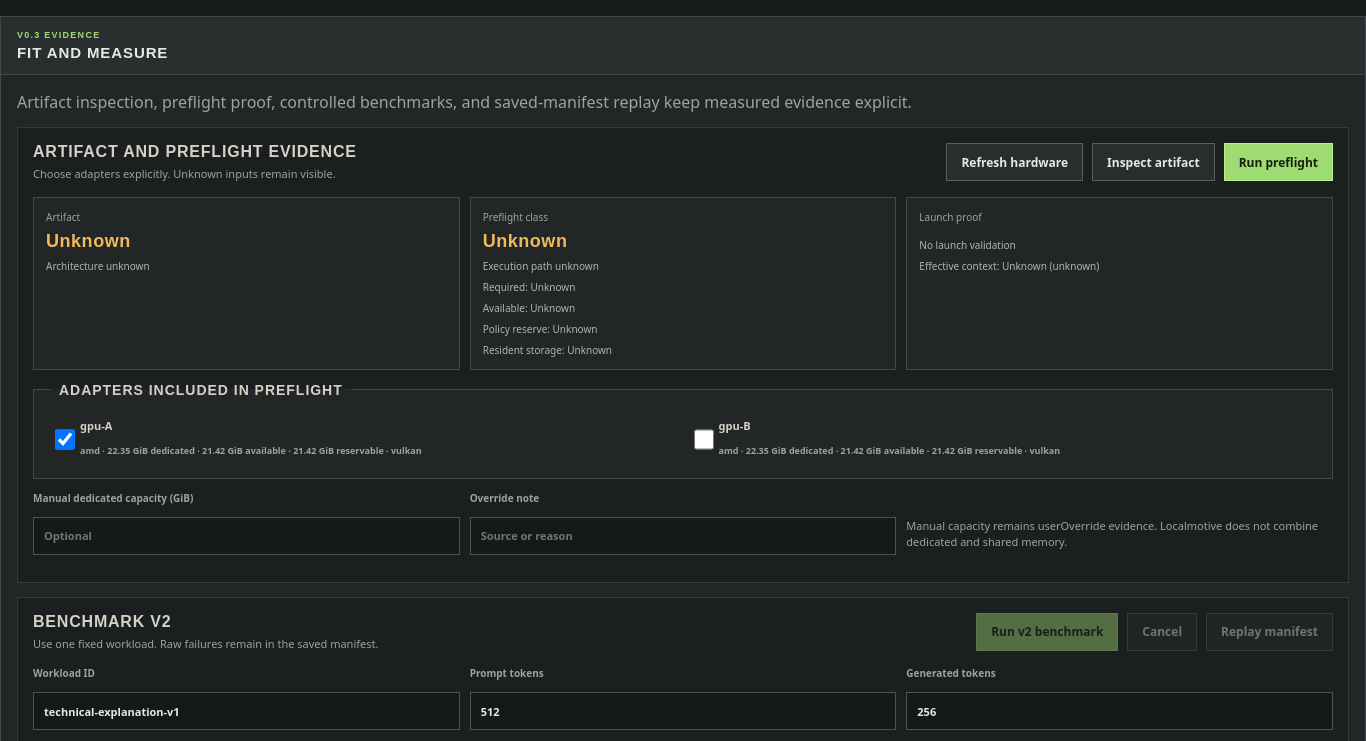
Scenario: preflight staleness and adapter selection (FE-06) › discards a preflight response whose inputs changed while it ran
Expected: the 1st checkbox is checked, left=55, top=420, right=75, bottom=458
Click the button "Run preflight".
click(1278, 162)  # box left=1224, top=143, right=1333, bottom=181
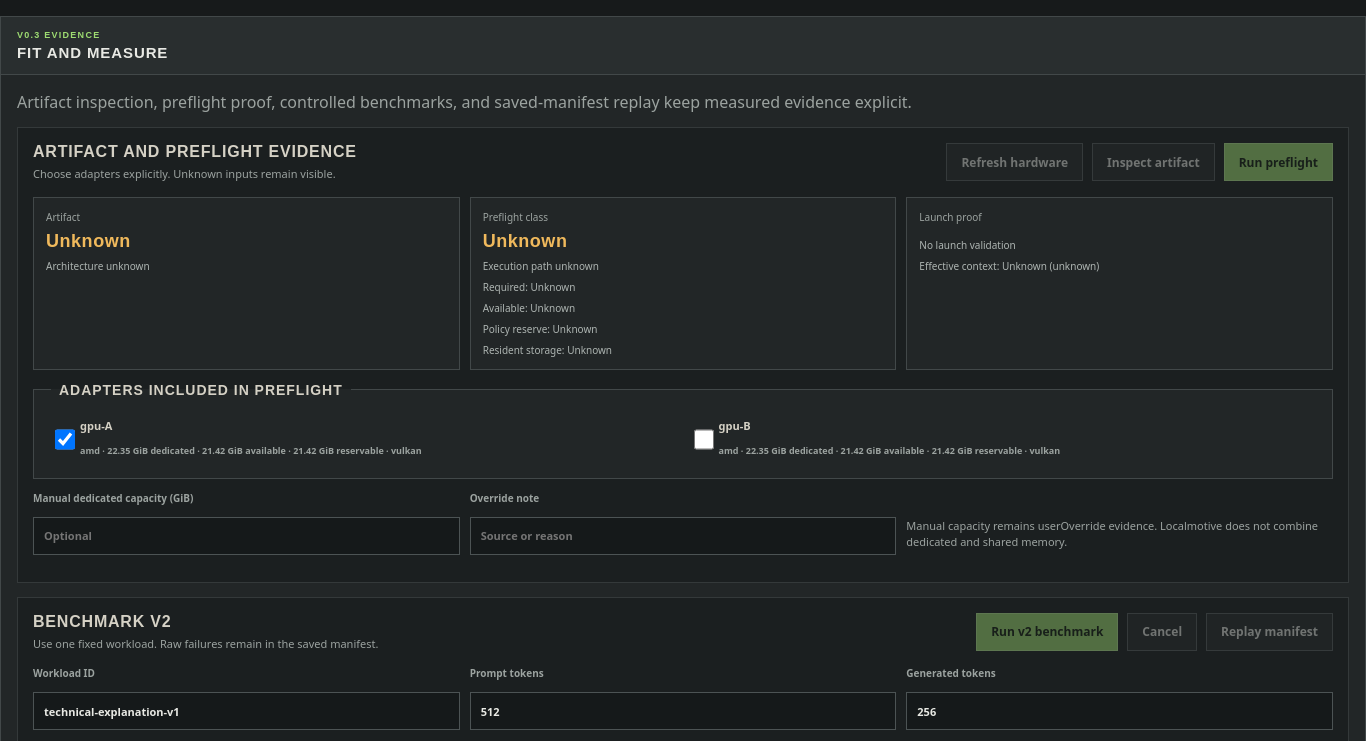
Click the 2nd checkbox.
click(704, 439)  # box left=694, top=420, right=714, bottom=458
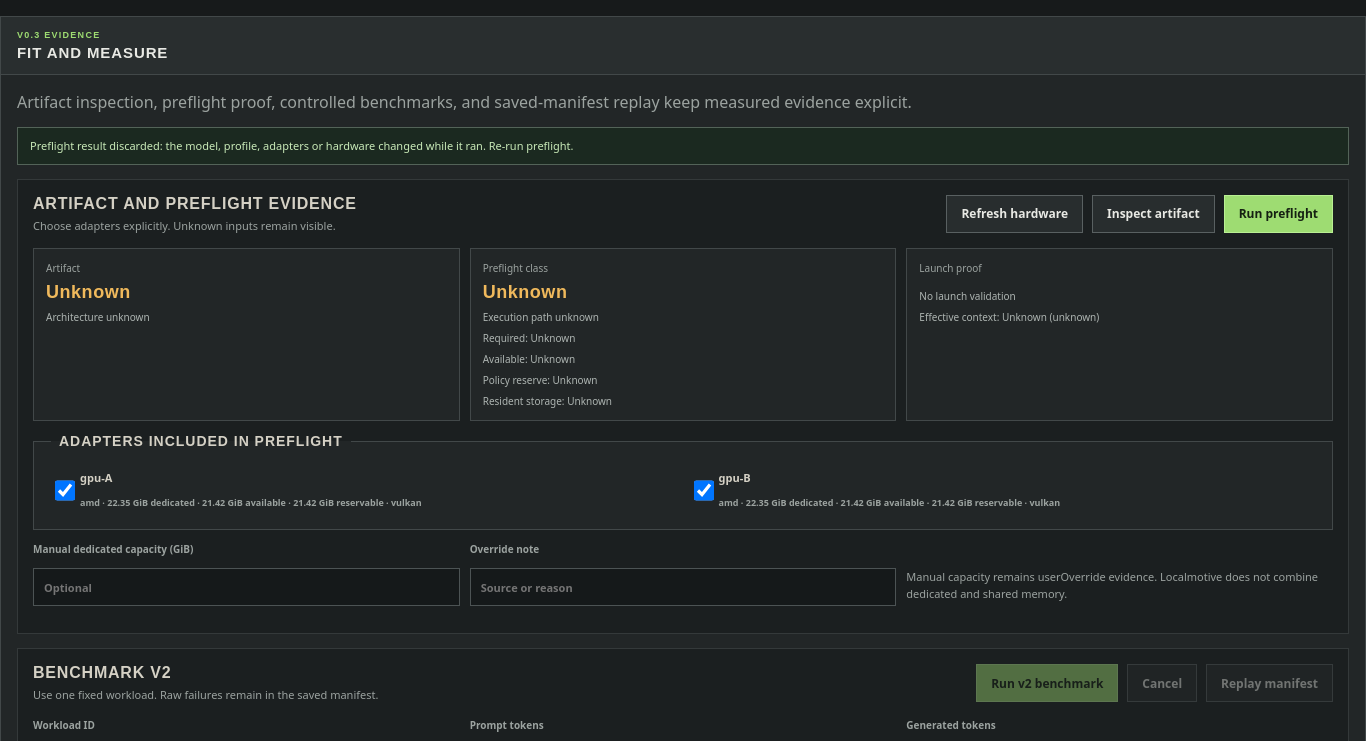
Expected: the text "Preflight result discarded" is shown, left=30, top=138, right=574, bottom=153
